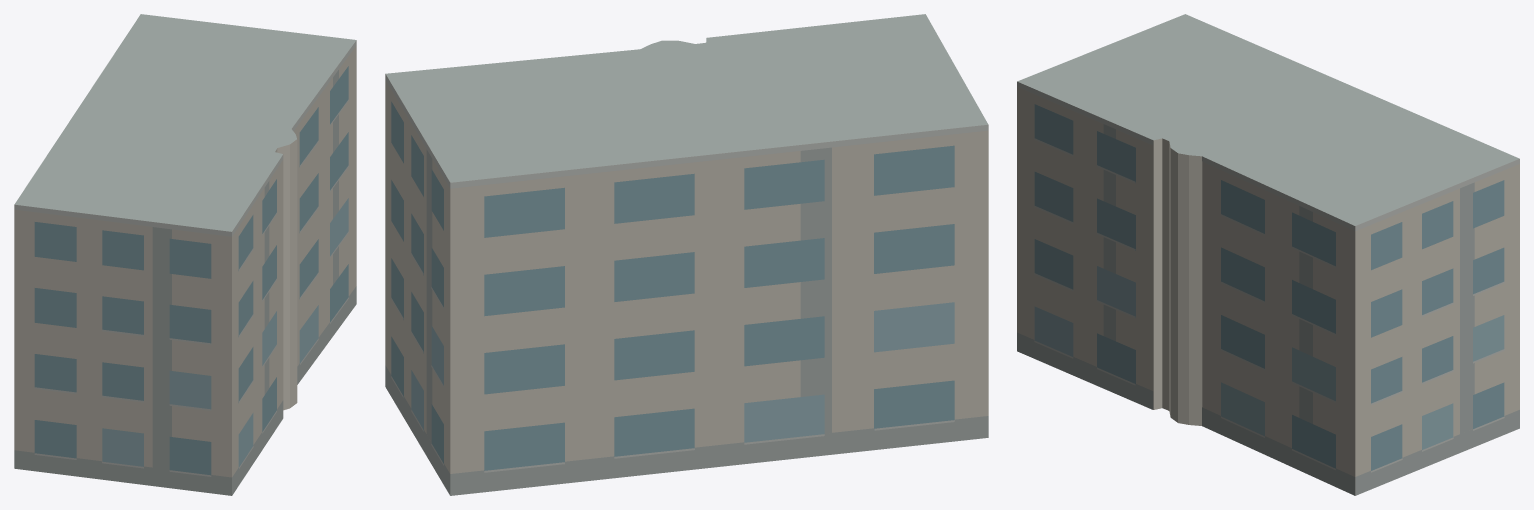
File: residential-b74c81e1-b4fc-4a08-92f7-566041a9f656.glb
3 renders of one model, left to right at view 1: azimuth 30°, elevation 25°; view 2: azimuth 150°, elevation 25°; view 3: azimuth 270°, elevation 25°, orthographic. The views are drawn at different scales.
Parts seen in each view (by area): view 1: residential-b74c81e1-b4fc-4a08-92f7-566041a9f656.tmp; view 2: residential-b74c81e1-b4fc-4a08-92f7-566041a9f656.tmp; view 3: residential-b74c81e1-b4fc-4a08-92f7-566041a9f656.tmp.
Part boxes in pixels (x1=…): residential-b74c81e1-b4fc-4a08-92f7-566041a9f656.tmp: x1=14, y1=14, x2=356, y2=495; residential-b74c81e1-b4fc-4a08-92f7-566041a9f656.tmp: x1=385, y1=14, x2=988, y2=495; residential-b74c81e1-b4fc-4a08-92f7-566041a9f656.tmp: x1=1017, y1=14, x2=1519, y2=495.
Bounding box in the file's own units: 21.59 × 12.8 × 21.63.
